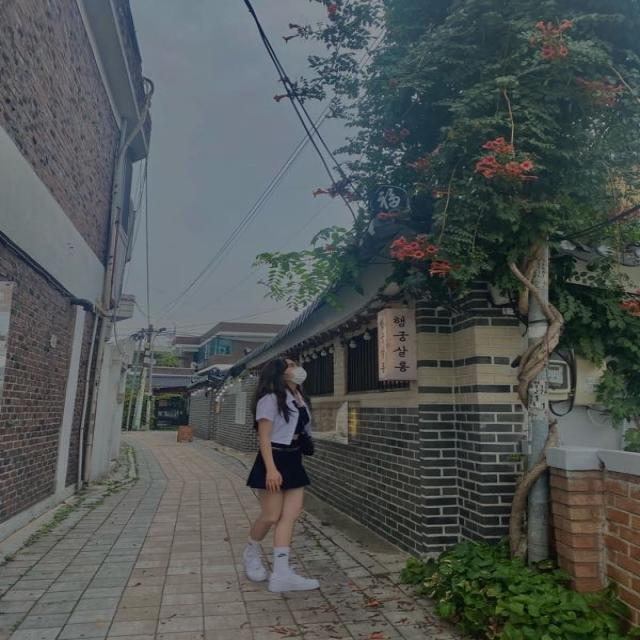shirt: (254, 389, 310, 448)
skirt: (243, 438, 304, 494)
